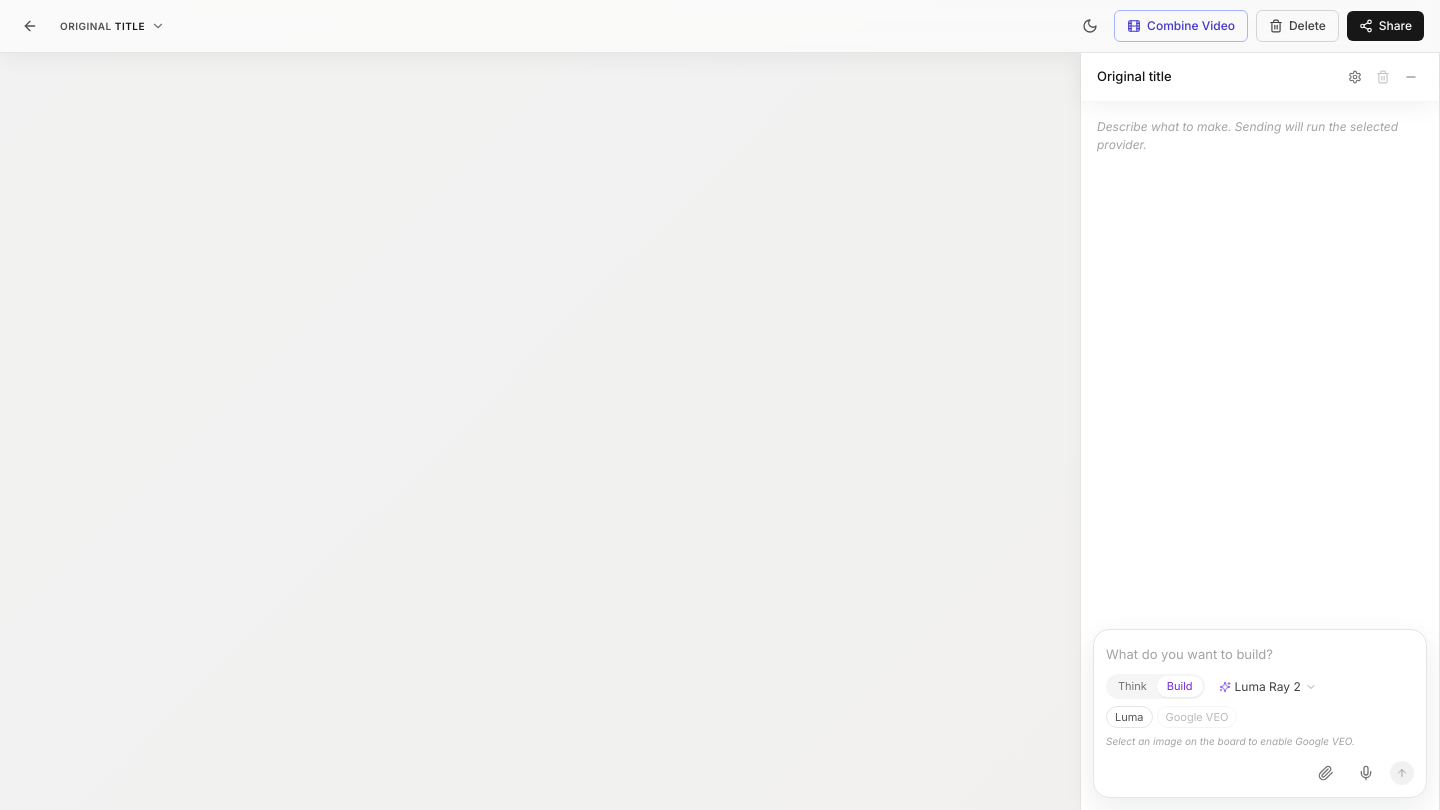
Scenario: BoardDetailPage inline rename › Escape cancels editing without firing PATCH
The image size is (1440, 810).
Step 1. Click the button with test id "button-title" → x=112, y=26, box left=52, top=14, right=173, bottom=38
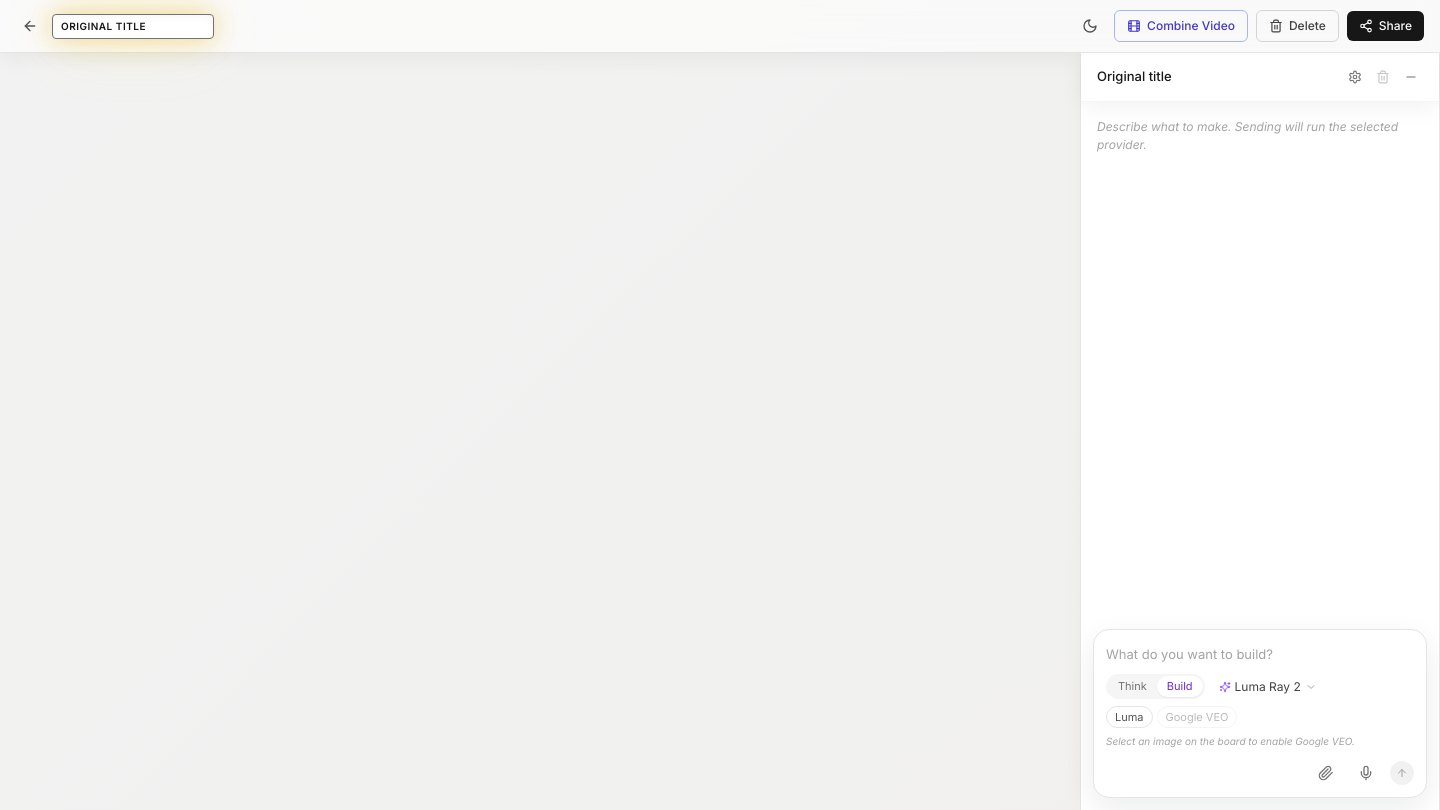
Step 2. Replace the text in the field with test id "input-board-title" with "Should not save" → x=133, y=26, box left=52, top=14, right=214, bottom=38
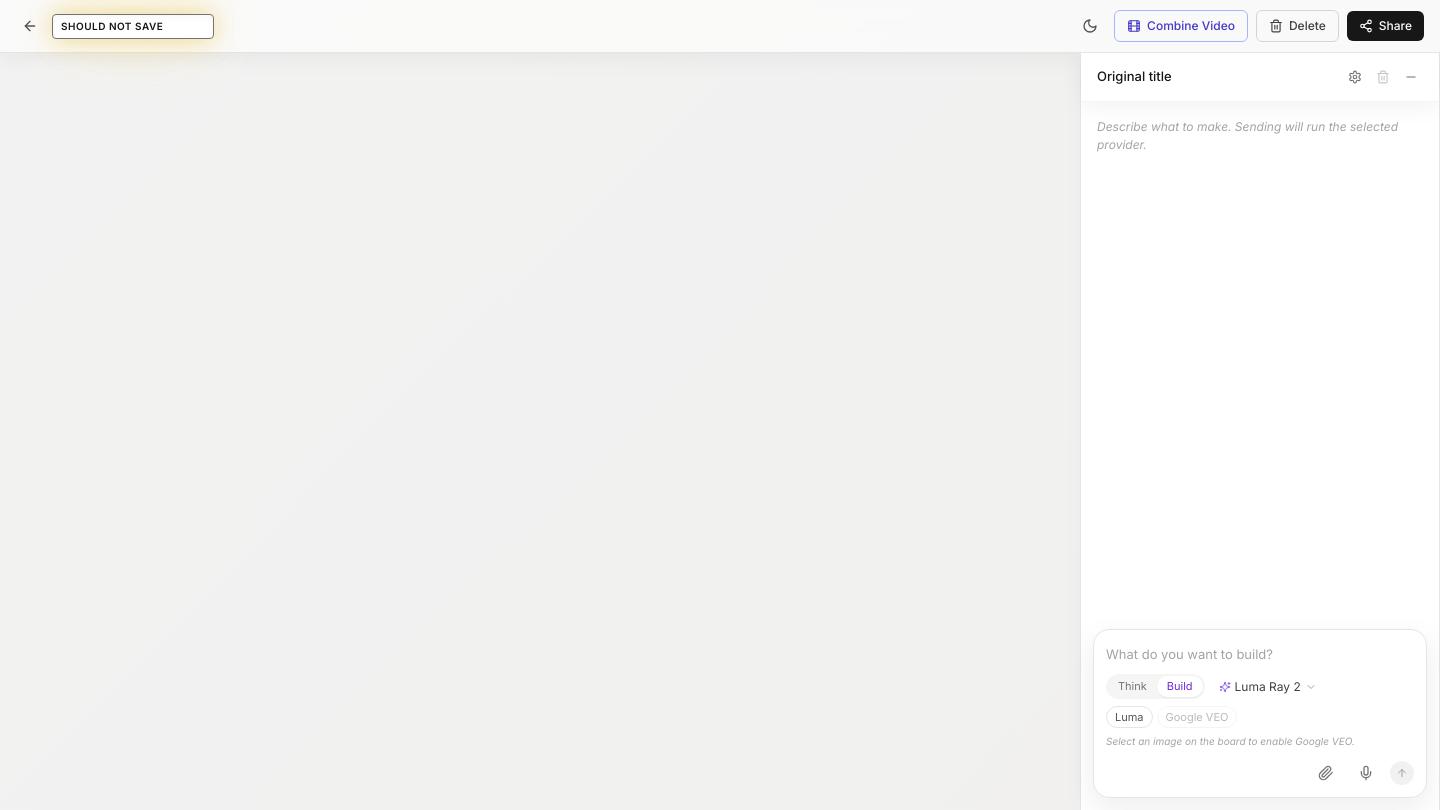
Step 3. Press Escape in the field with test id "input-board-title", box left=52, top=14, right=214, bottom=38
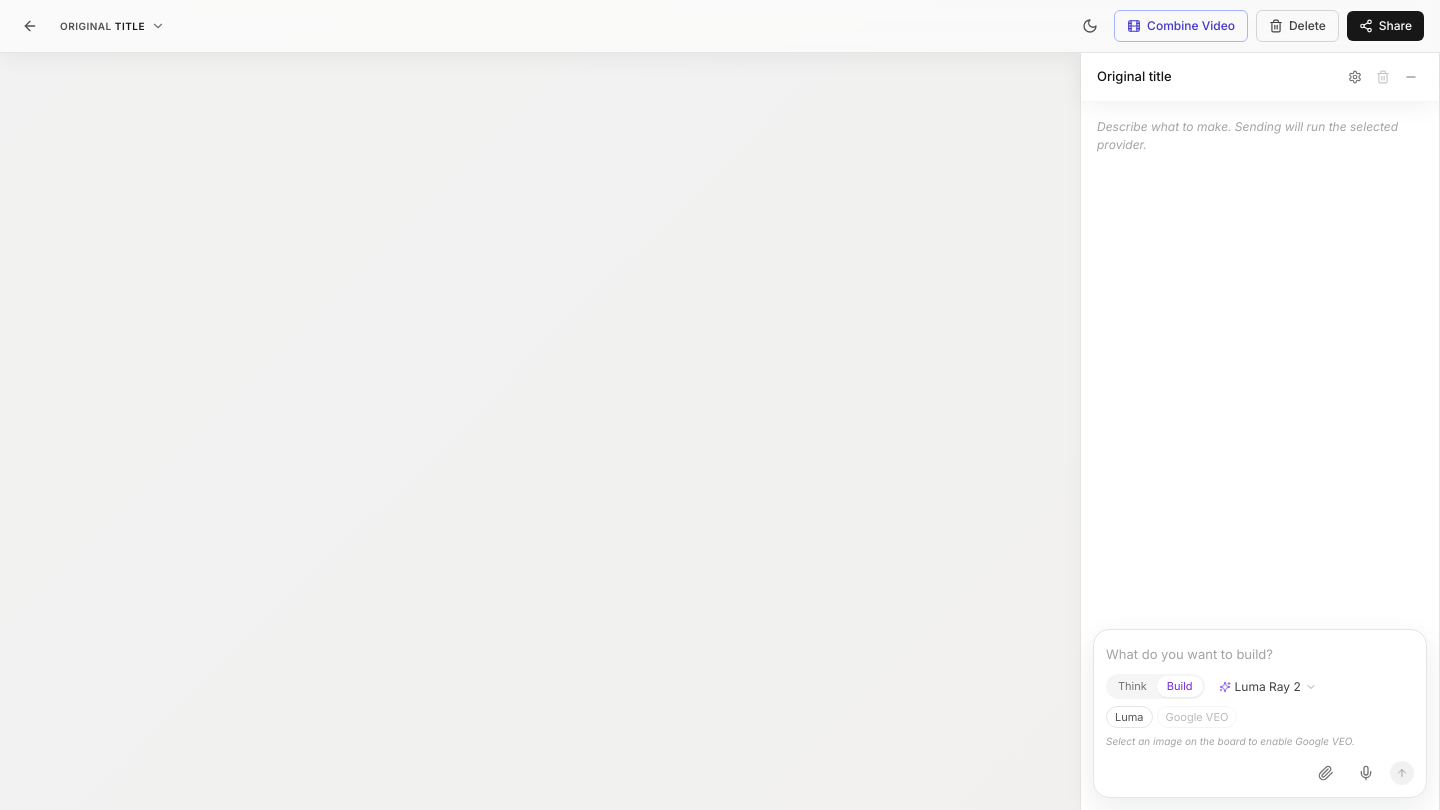
Check: the field with test id "input-board-title" is gone
